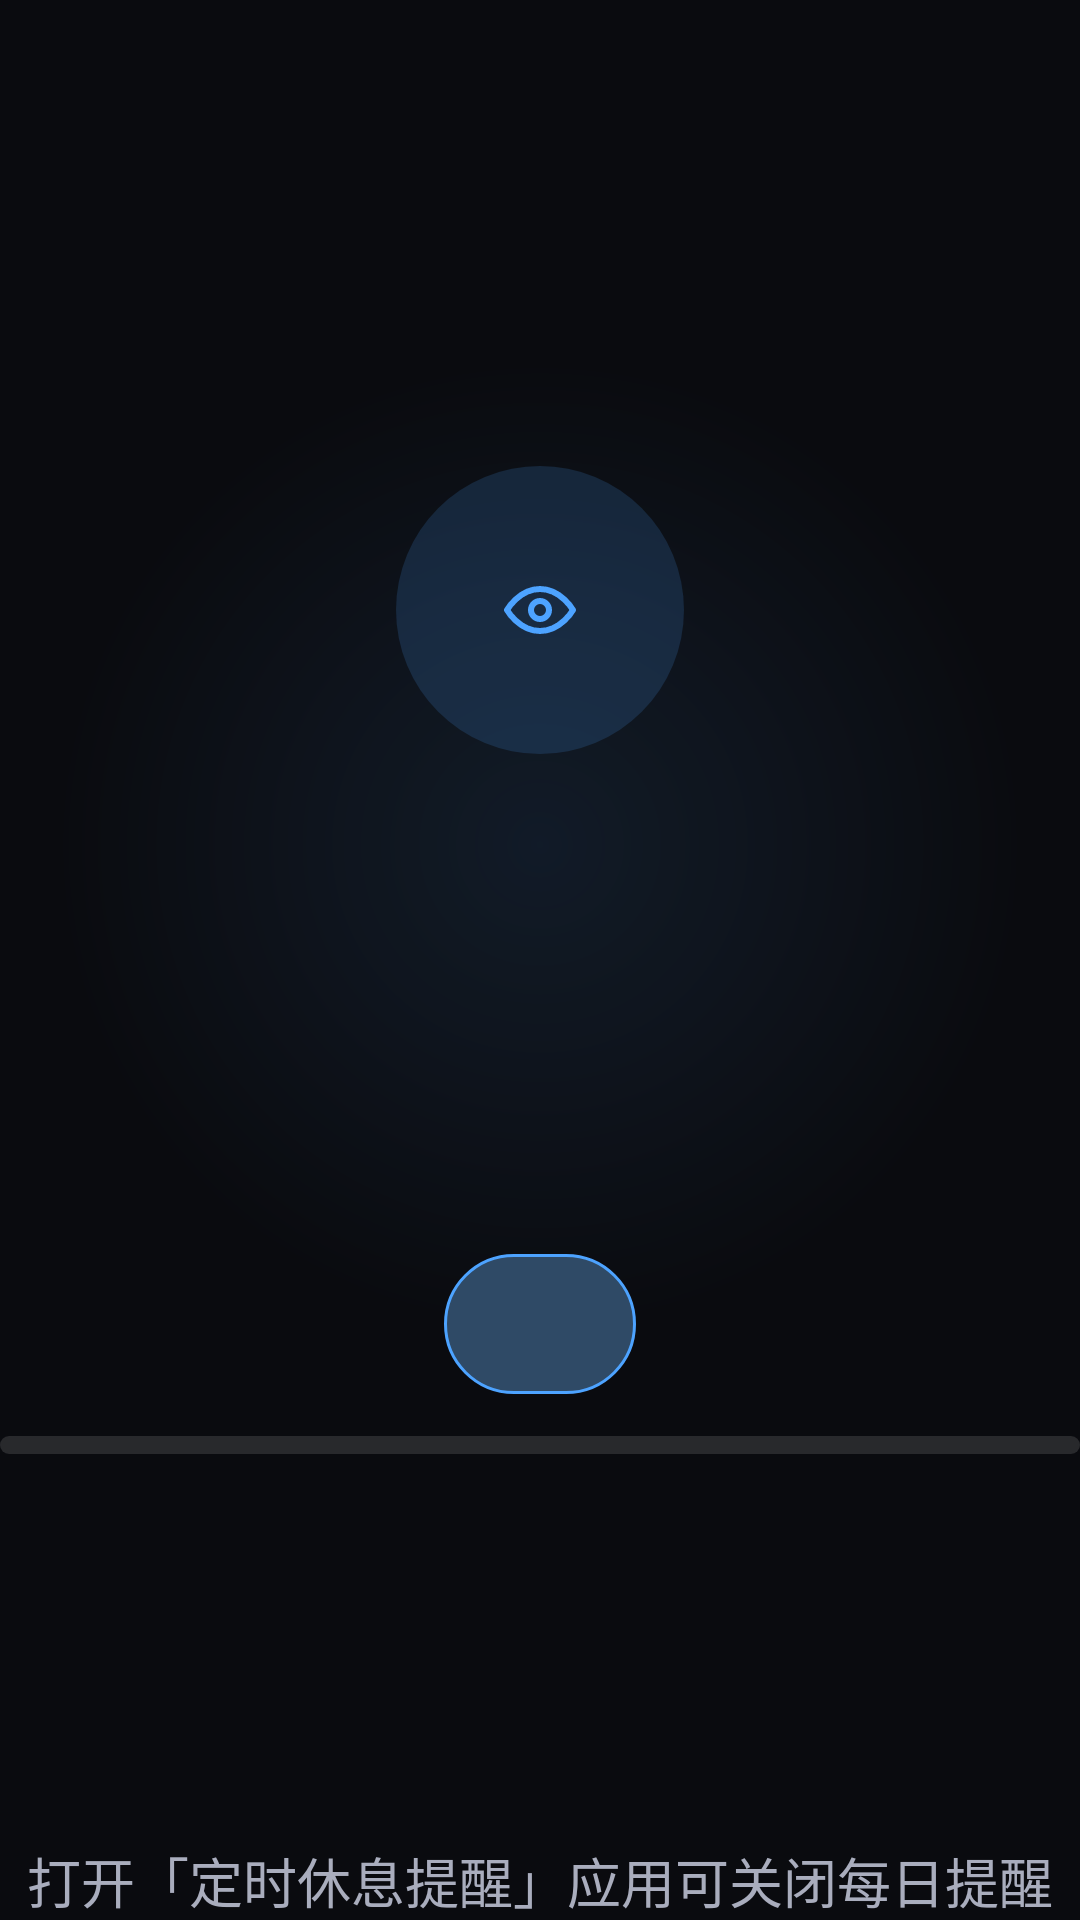

Where icons sit on this 1080w x 1920h app screen, as (x1, y1, x2, y2):
eye: (396, 466, 684, 754)
